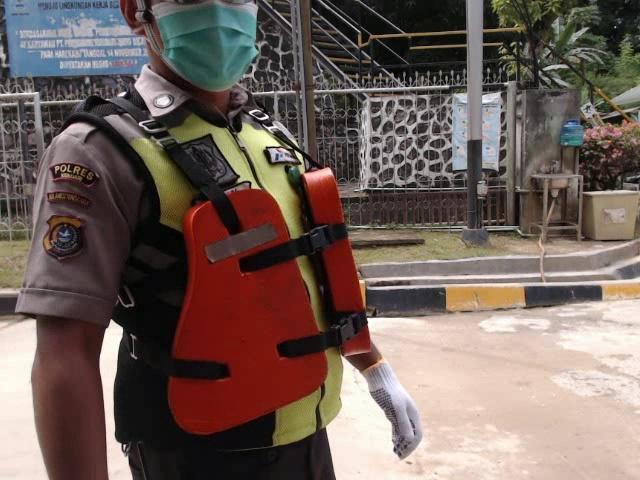vest: (162, 162, 369, 437)
